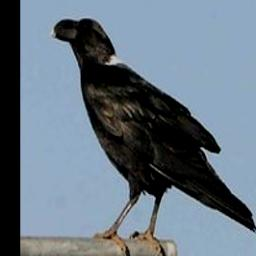Crow: (51, 13, 256, 256)
